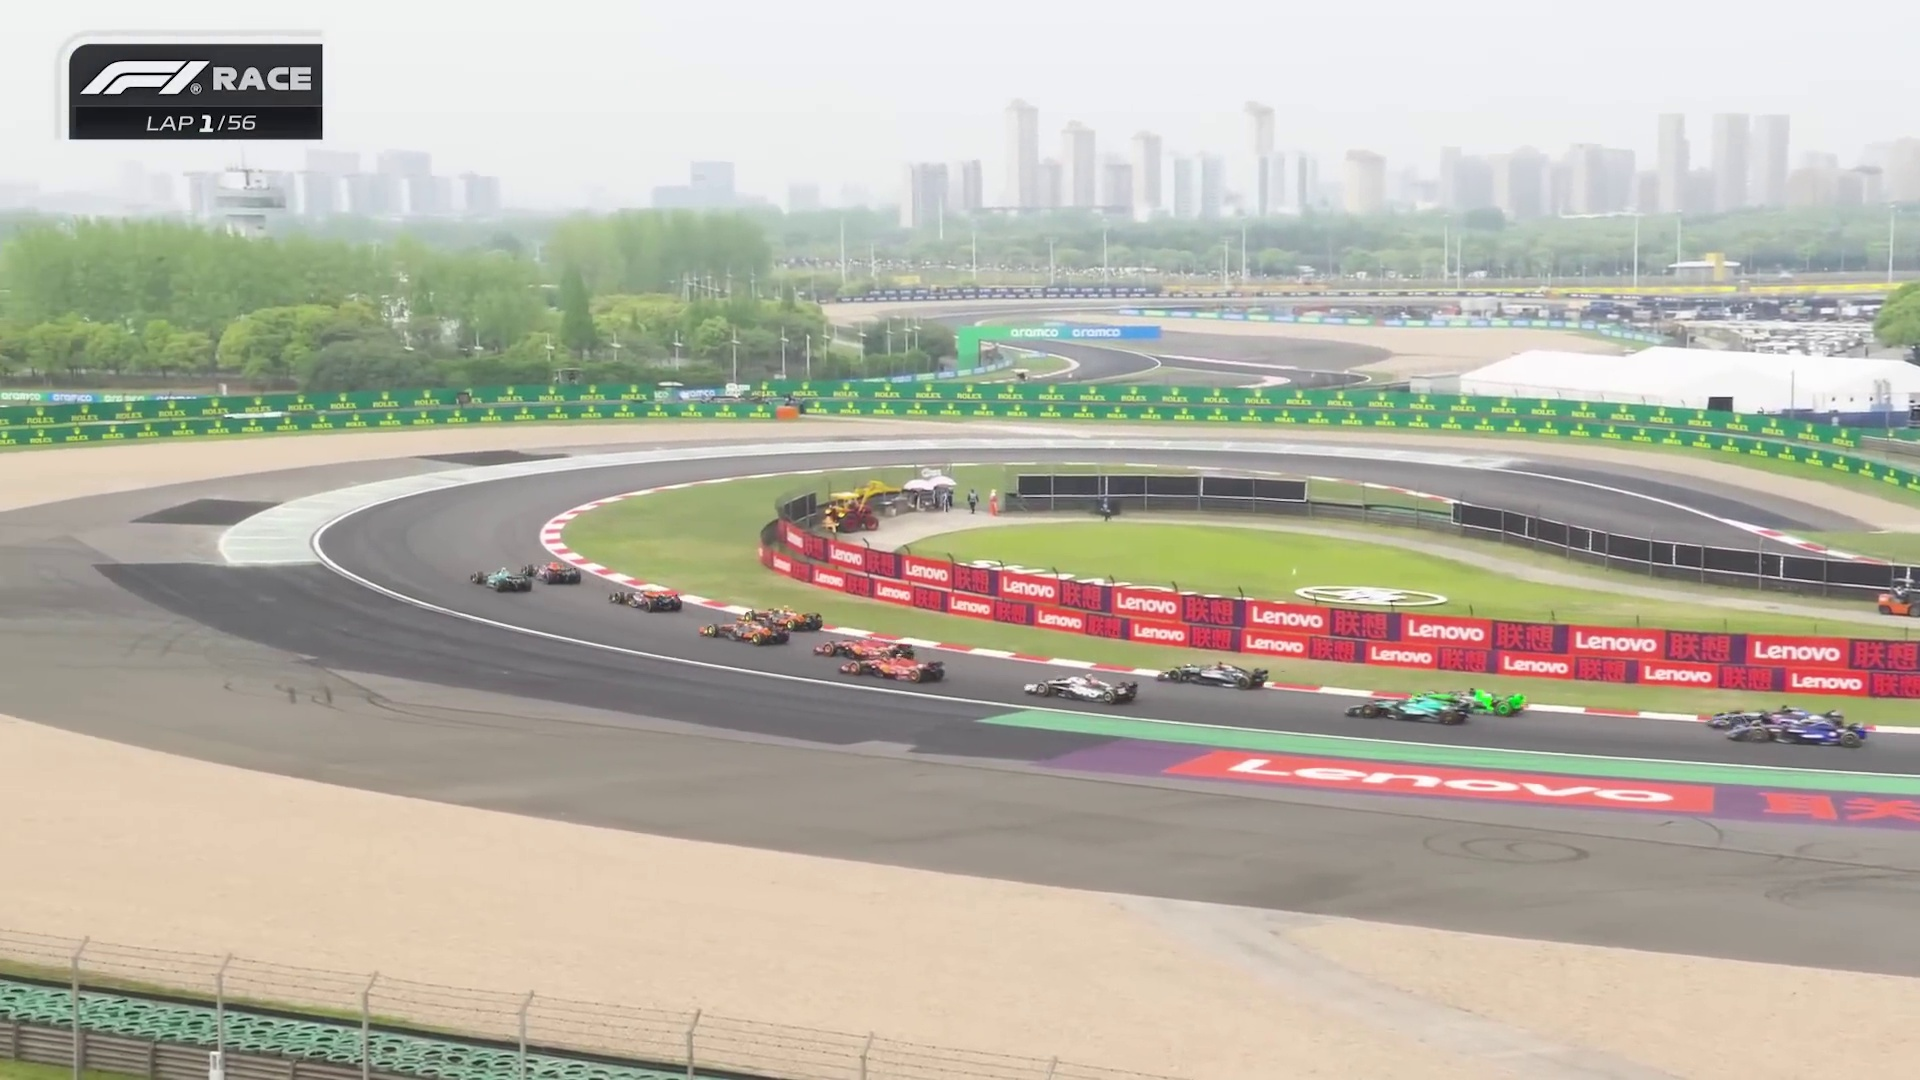AstonMartin: (1344, 691, 1463, 725), (472, 569, 534, 596)
Ferrari: (837, 655, 947, 687), (815, 634, 915, 658)
Haas: (1027, 667, 1136, 705)
Mclaren: (696, 616, 791, 645)
Mercedes: (1160, 658, 1274, 688)
RedBull: (610, 585, 683, 614), (525, 558, 580, 585)
Sauber: (1447, 687, 1524, 716)
Willliams: (1718, 714, 1868, 749)
